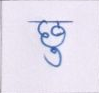u_matra: (43, 46, 65, 68)
